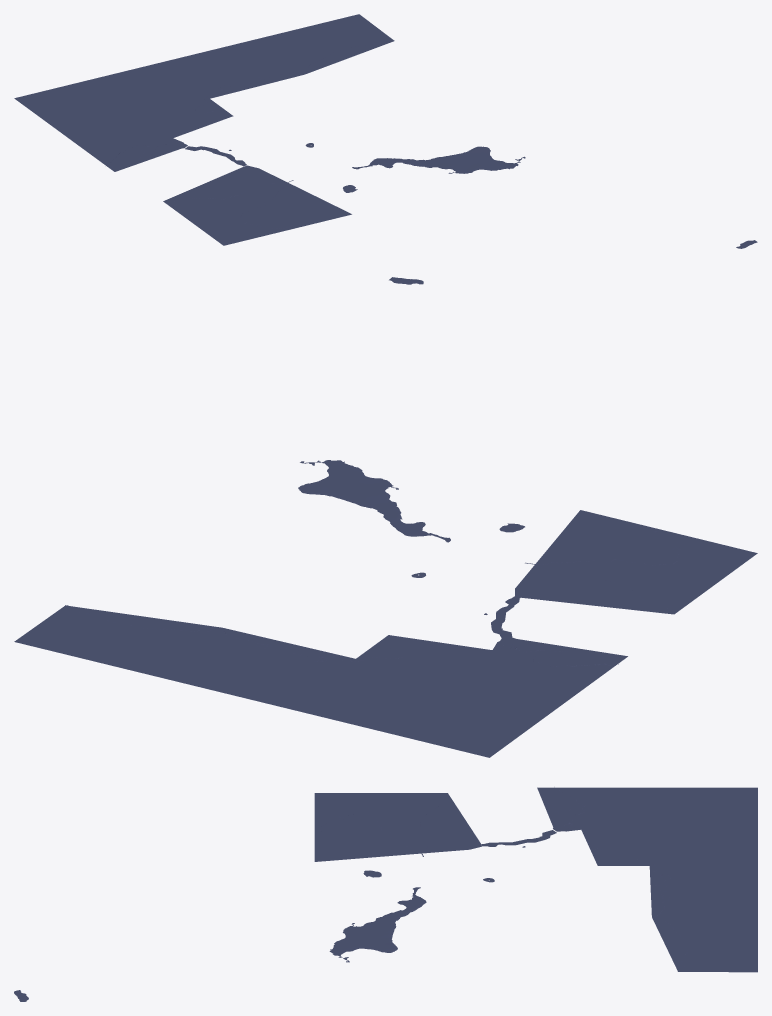
Rendered from CM_Water.FBX.
3 views of the same model, one above another, from view 1: azimuth 30°, elevation 25°; view 2: azimuth 150°, elevation 25°; view 3: azimuth 270°, elevation 25° (orthographic). The views are drawn at different scales.
Visible parts, largest first — view 1: Water (×3); view 2: Water (×3); view 3: Water (×3).
Boxes of the visible parts, bbox=[...] form: Water (×3): bbox=[14, 14, 757, 248]; Water (×3): bbox=[14, 277, 757, 757]; Water (×3): bbox=[14, 787, 757, 1001].
Size of the model in its own units: 6055 by 65.4 by 8690.
